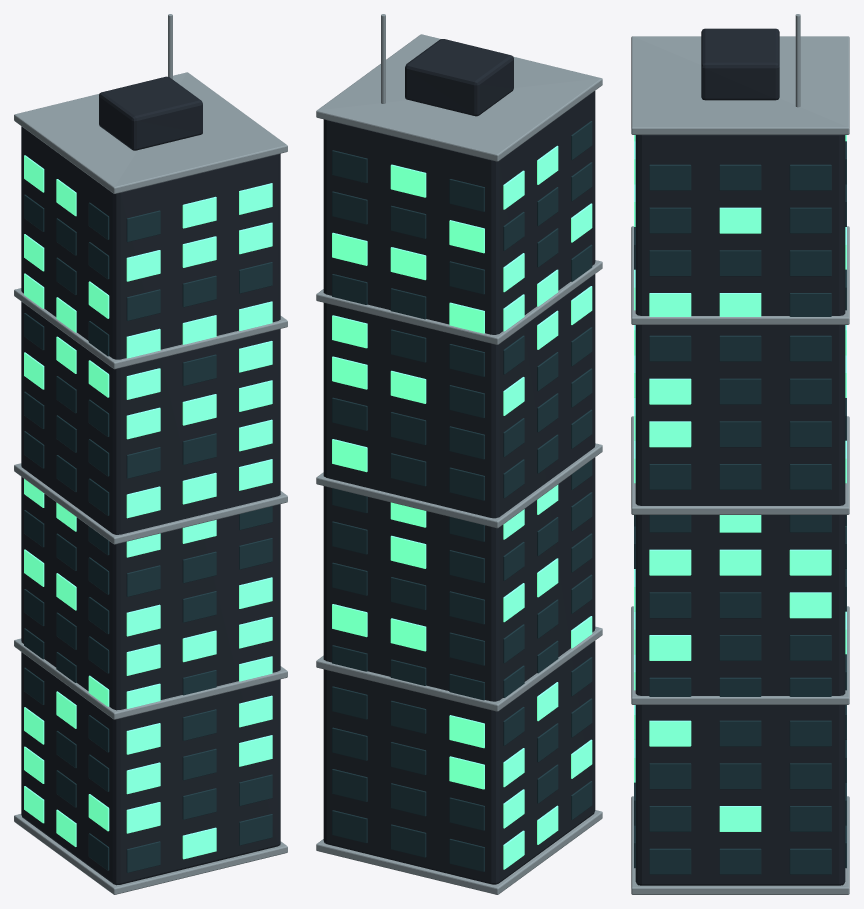
The model's file is building.glb.
The picture shows the model from 3 angles, left to right: view 1: azimuth 30°, elevation 25°; view 2: azimuth 150°, elevation 25°; view 3: azimuth 270°, elevation 25°; orthographic projection. The views are drawn at different scales.
Visible parts, largest first — view 1: building; view 2: building; view 3: building.
Part boxes in pixels (x1,y1,x2,y2): building: (14,14,287,894); building: (316,14,602,894); building: (631,14,849,894).
Bounding box in the file's own units: 2.08 × 9.04 × 2.08.
